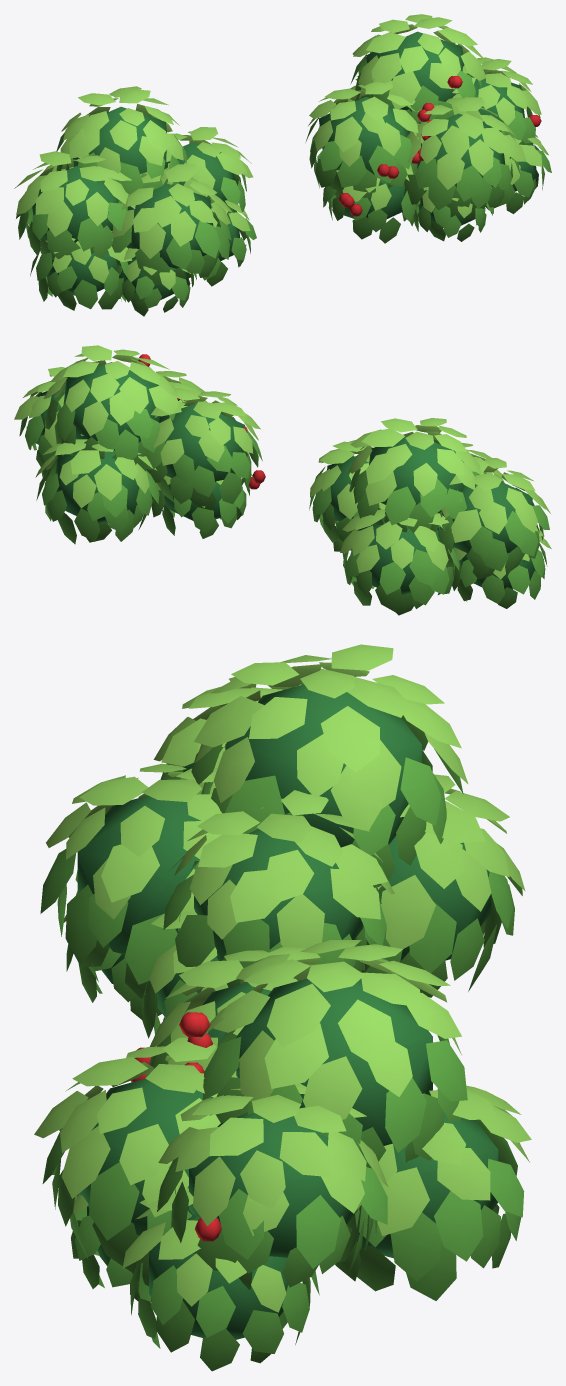
The model's file is bushes.glb.
3 renders of one model, top to bottom at view 1: azimuth 30°, elevation 25°; view 2: azimuth 150°, elevation 25°; view 3: azimuth 270°, elevation 25°, orthographic. The views are drawn at different scales.
Parts seen in each view (by area): view 1: bush_berry, bush_plain; view 2: bush_berry, bush_plain; view 3: bush_berry, bush_plain.
Boxes of the visible parts, x1,y1,x2,y2 form: bush_berry: (305,14,551,243); bush_plain: (14,86,256,316); bush_berry: (14,345,265,544); bush_plain: (309,418,551,615); bush_berry: (34,940,531,1371); bush_plain: (40,644,525,1038).
Bounding box in the file's own units: 3.31 × 1.09 × 1.4.
